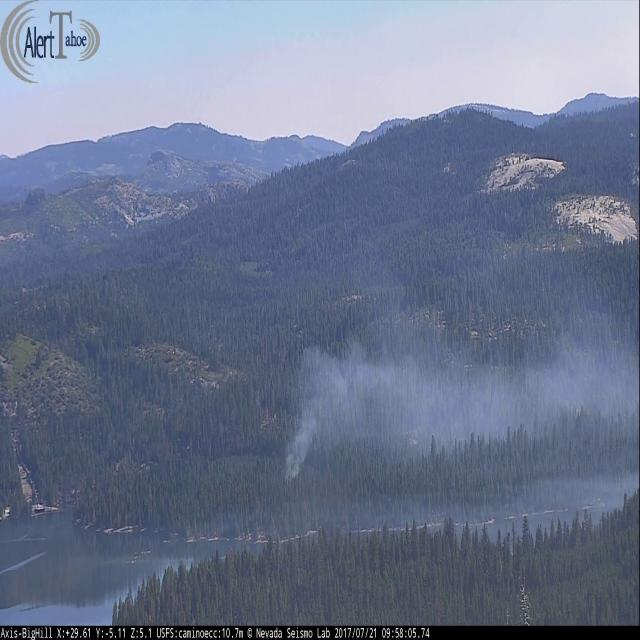smoke: (284, 296, 640, 478), (202, 481, 640, 569)
